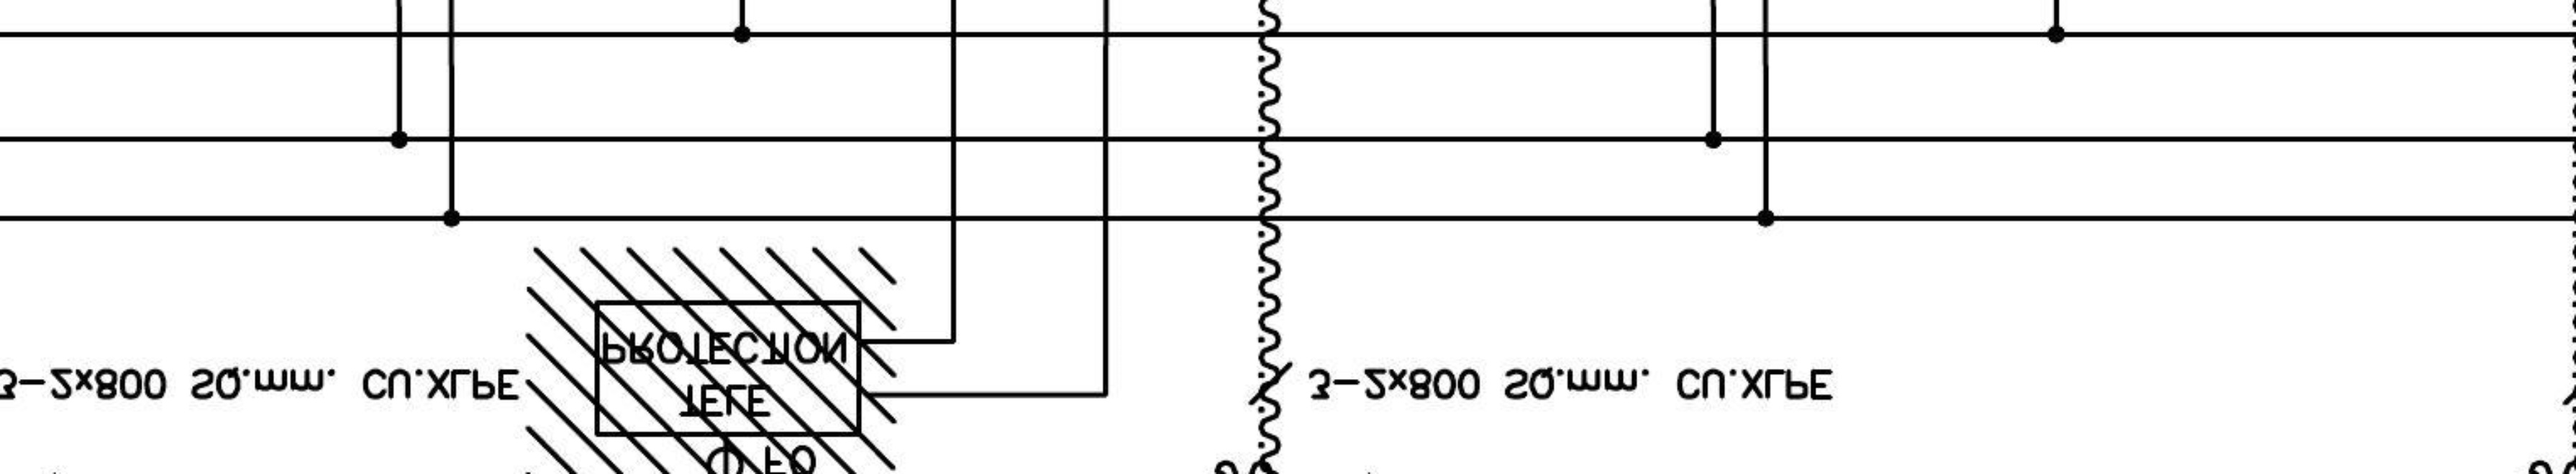tele_protection: (590, 295, 866, 441)
